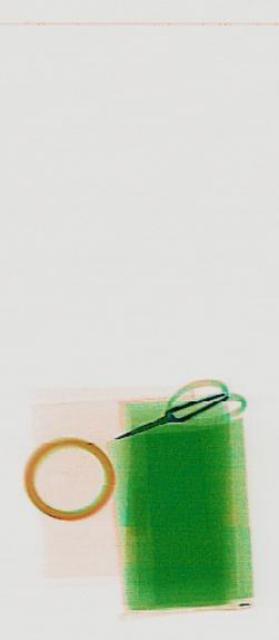Scissors: (110, 358, 245, 464)
